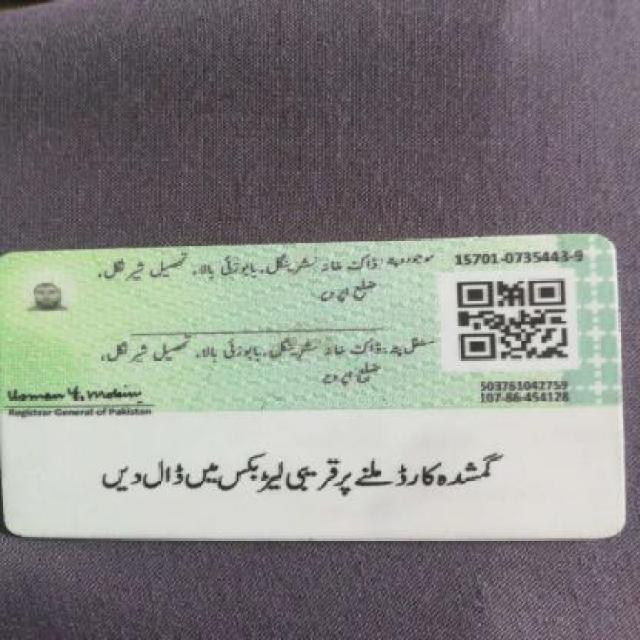Back: (5, 229, 628, 545)
